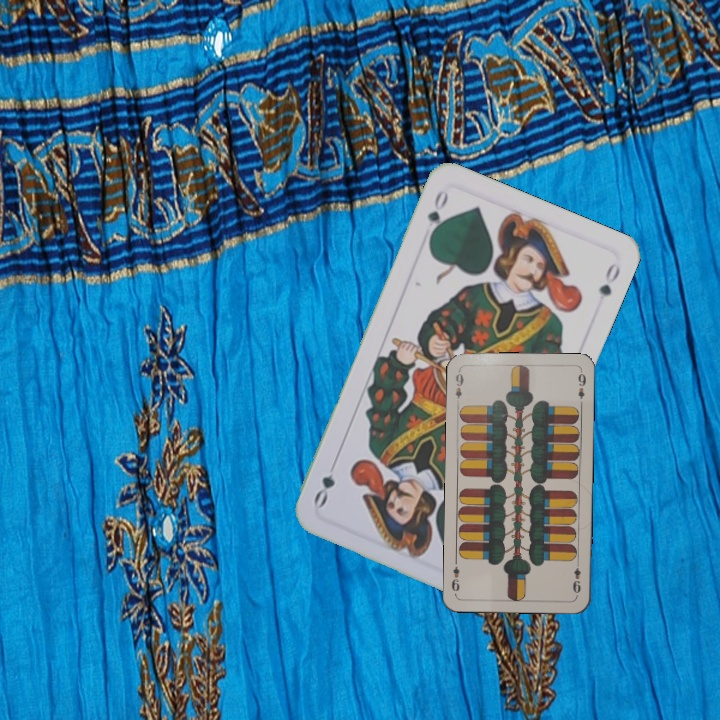E9: (451, 367, 466, 407), (569, 557, 583, 597)
GO: (423, 186, 451, 243)
